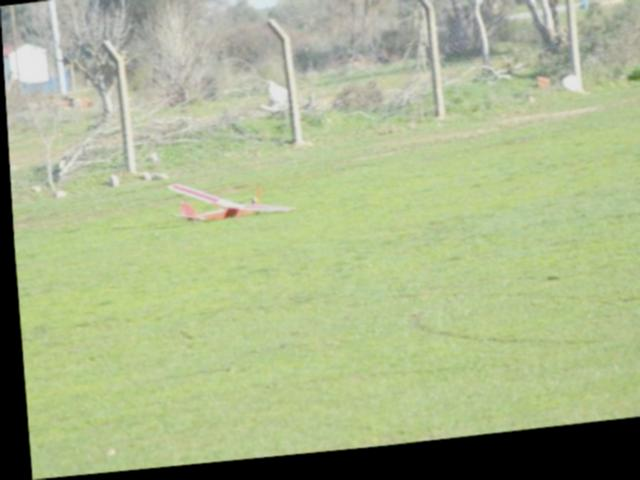iha: (155, 170, 296, 235)
